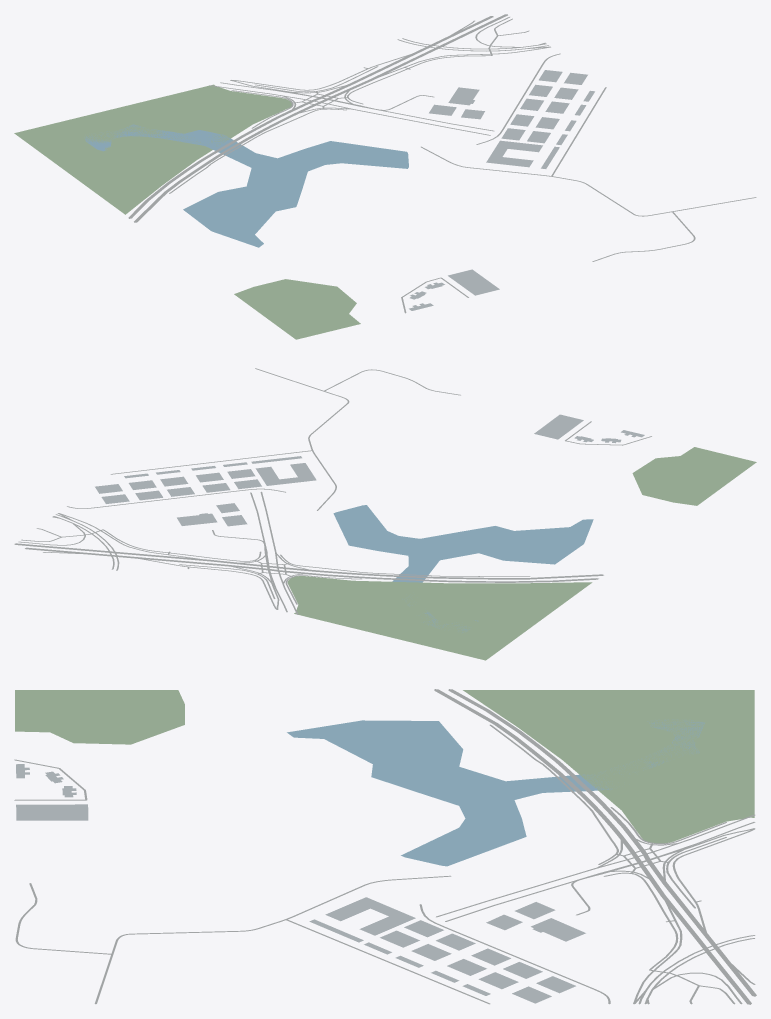
File: -8_18-known-coarse.glb
3 views of the same model, one above another, from view 1: azimuth 30°, elevation 25°; view 2: azimuth 150°, elevation 25°; view 3: azimuth 270°, elevation 25° (orthographic). The views are drawn at different scales.
Size of the model in its own units: 1005 by 0.15 by 1000.
